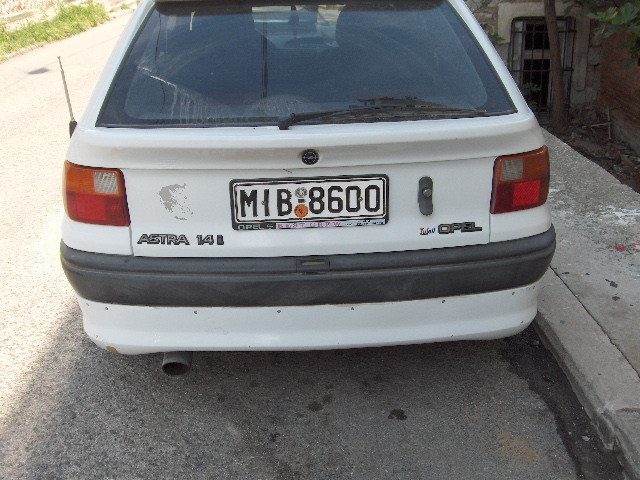licenseplate: (230, 175, 388, 223)
